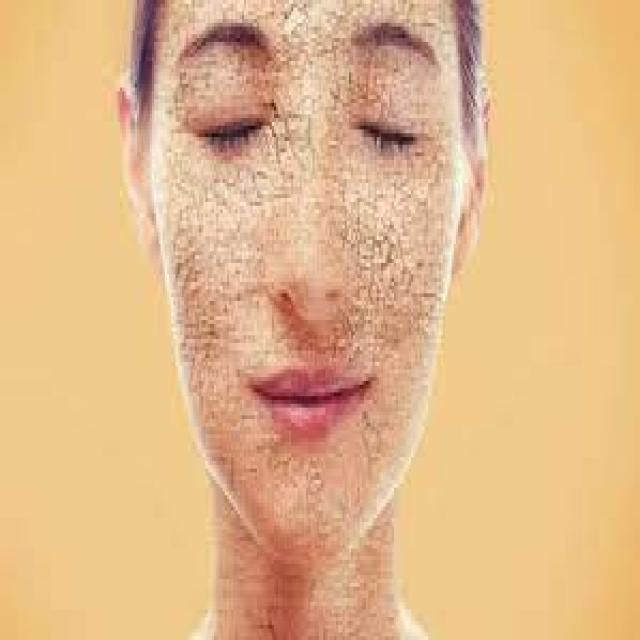Dry-Skin: (153, 142, 288, 346), (280, 0, 365, 296), (227, 408, 387, 542), (342, 151, 435, 367), (224, 553, 397, 640), (164, 2, 279, 119), (368, 0, 465, 127), (175, 302, 257, 444)
